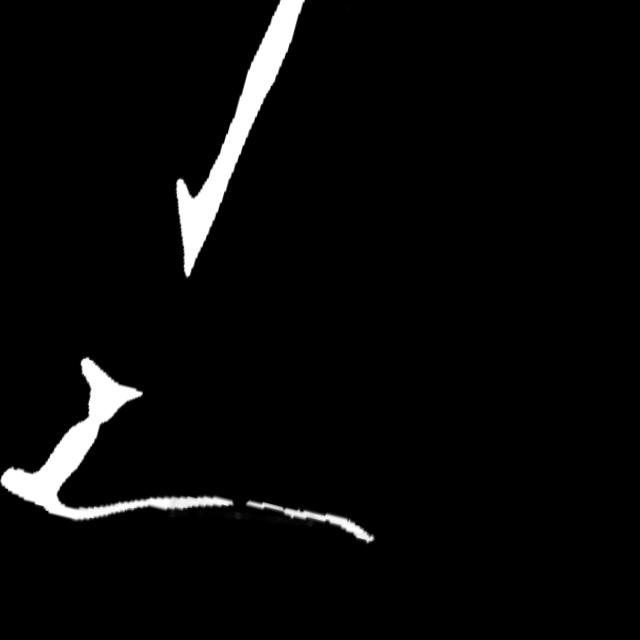sup: (215, 482, 259, 524)
